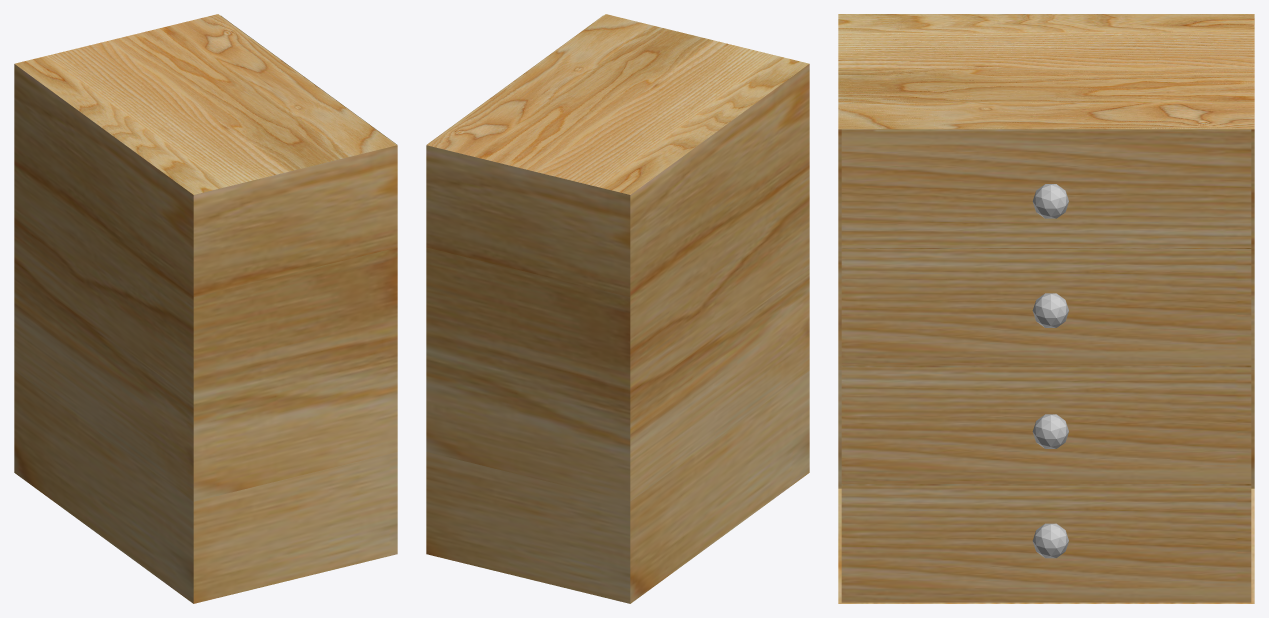
Rendered from SzafkaNaziemna.fbx.
The picture shows the model from 3 angles, left to right: view 1: azimuth 30°, elevation 25°; view 2: azimuth 150°, elevation 25°; view 3: azimuth 270°, elevation 25°; orthographic projection. The views are drawn at different scales.
Visible parts, largest first — view 1: Szafka; view 2: Szafka; view 3: Szafka, Szuflada 1, Szuflada 4, Szuflada 3, Szuflada 2, Raczka 4, Raczka 1, Raczka 2, Raczka 3.
Boxes of the visible parts, x1,y1,x2,y2 form: Szafka: [14, 14, 397, 603]; Szafka: [426, 14, 809, 603]; Szafka: [838, 14, 1254, 603]; Szuflada 1: [841, 129, 1251, 247]; Szuflada 4: [841, 484, 1251, 602]; Szuflada 3: [841, 365, 1251, 483]; Szuflada 2: [841, 248, 1251, 365]; Raczka 4: [1032, 523, 1068, 558]; Raczka 1: [1032, 184, 1068, 218]; Raczka 2: [1032, 293, 1068, 327]; Raczka 3: [1032, 414, 1068, 448].
Size of the model in its own units: 220 by 383 by 305.
